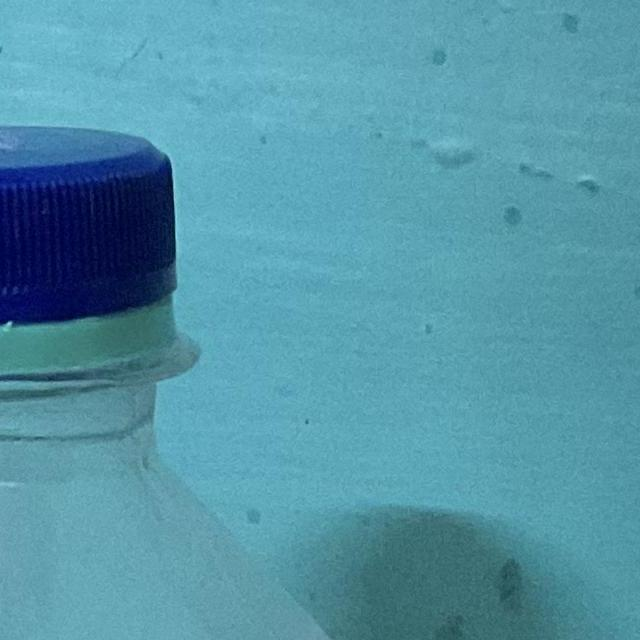Good-cap-Df0S: (0, 125, 201, 400)
